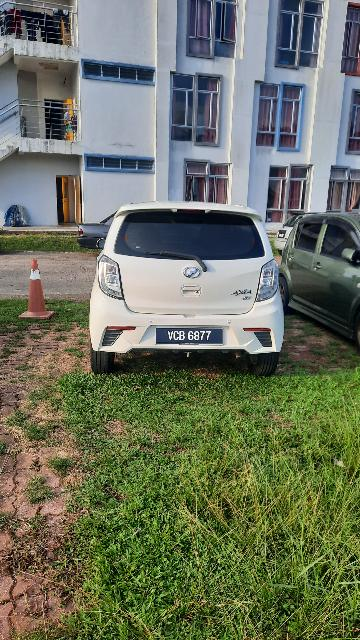License_Plate: (151, 326, 227, 350)
car: (84, 202, 284, 381)
